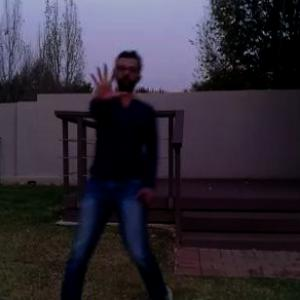follow_hand: (87, 61, 128, 102)
